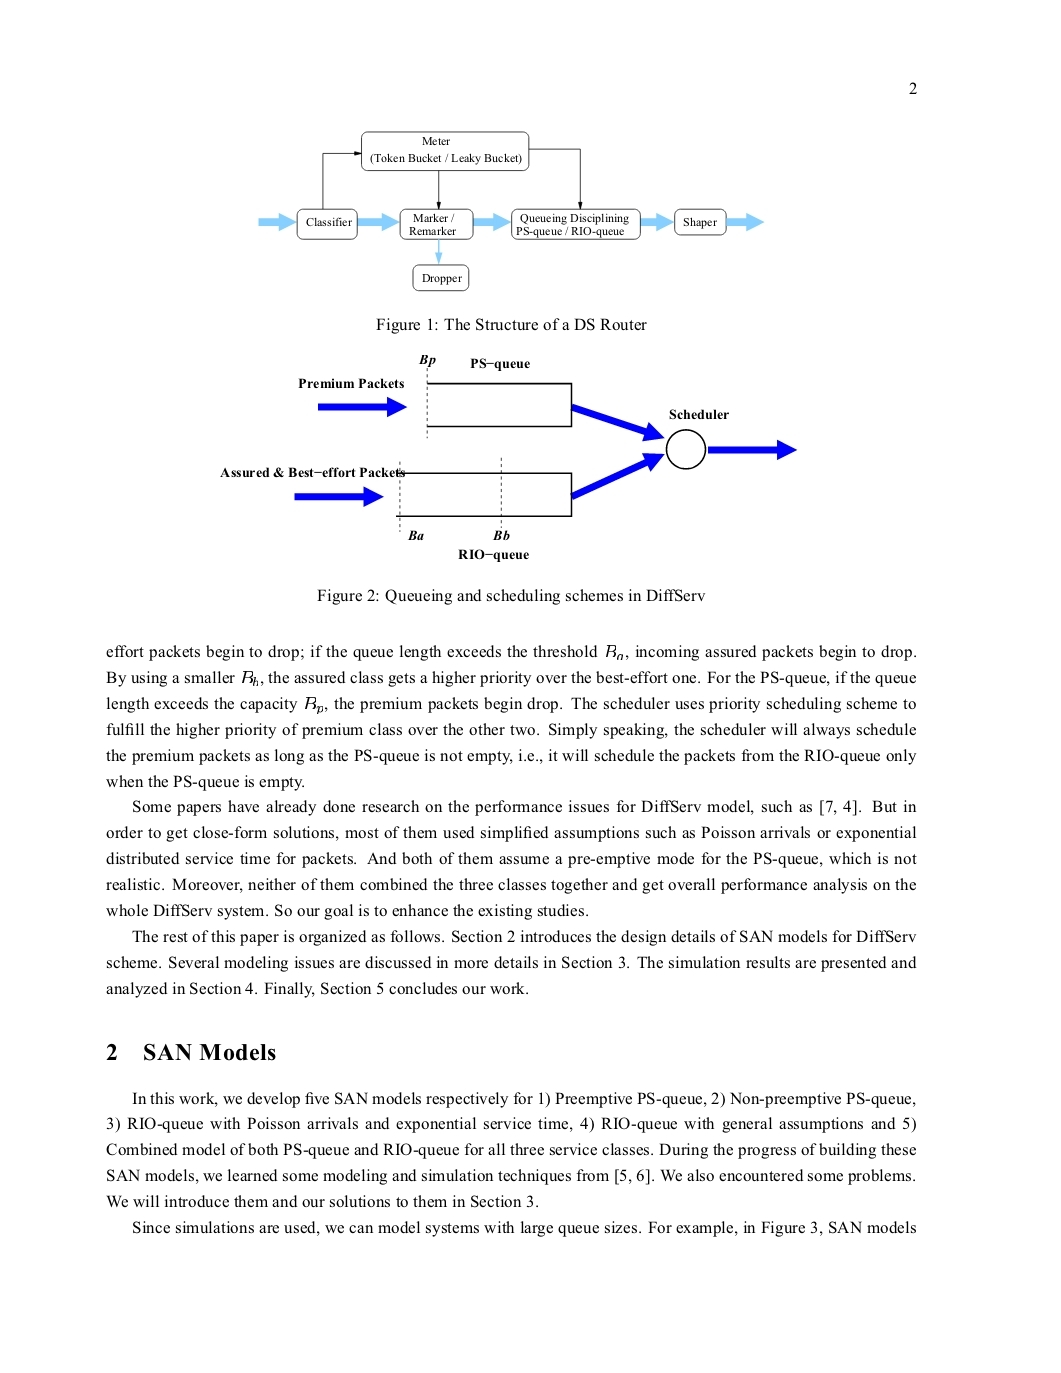figure: (220, 356, 796, 561), (259, 130, 763, 292)
